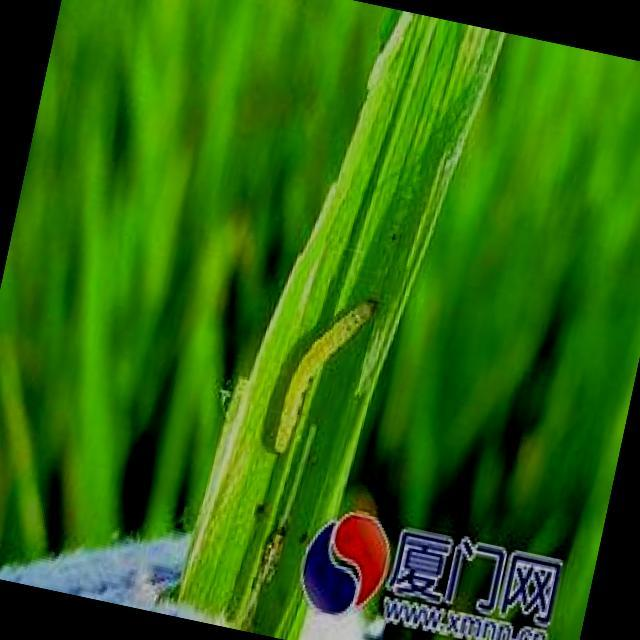leaf folder: (274, 302, 374, 452)
